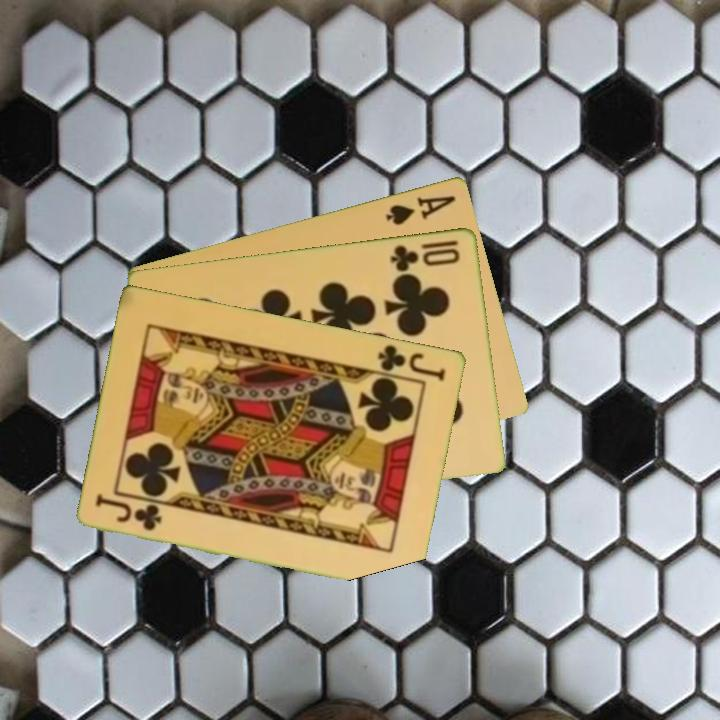10c: (387, 236, 464, 274)
As: (382, 191, 459, 228)
Jc: (368, 341, 449, 383), (92, 491, 166, 534)
